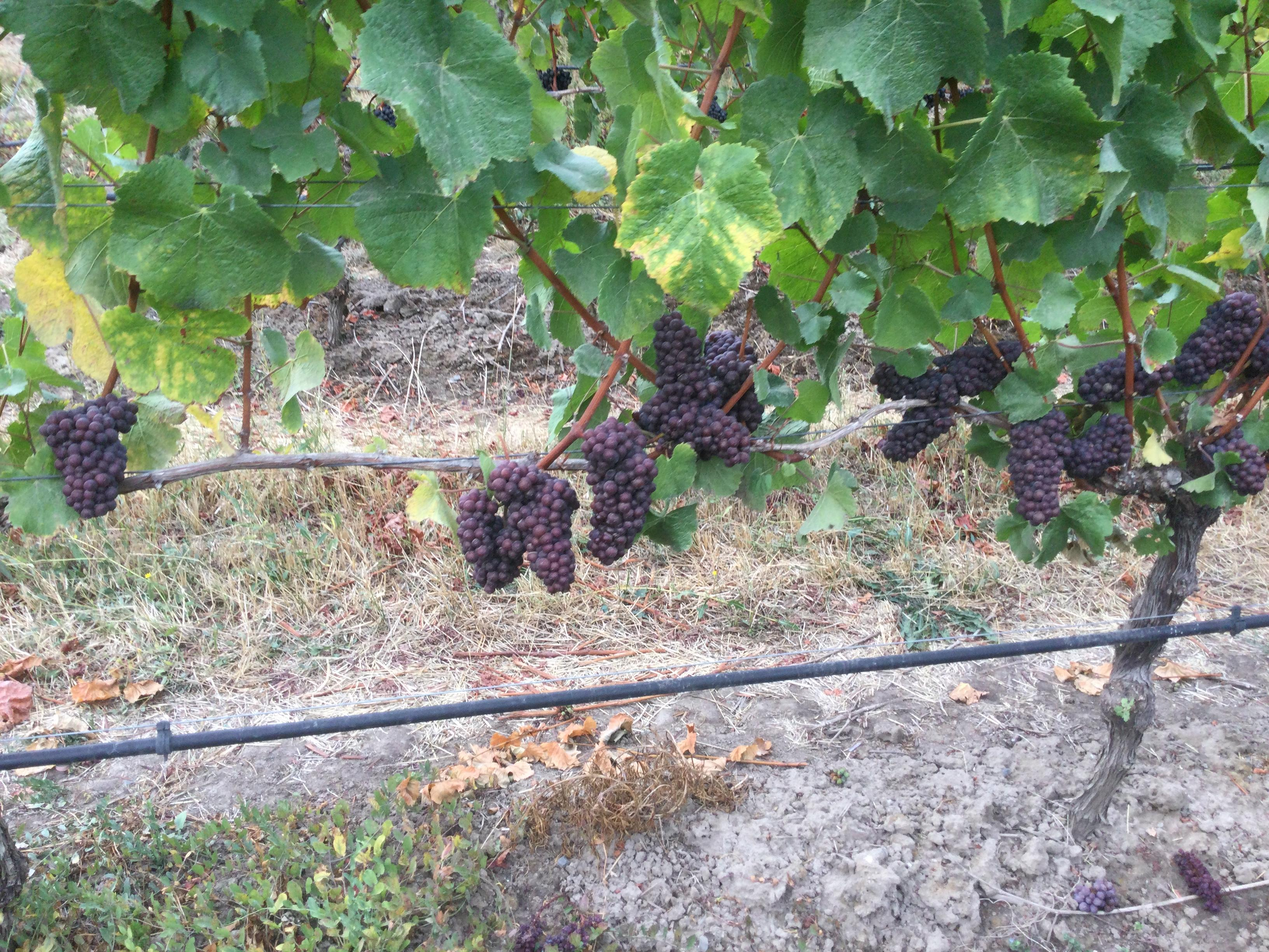leaf: (358, 0, 531, 192), (944, 53, 1114, 226), (616, 139, 781, 315), (108, 156, 290, 308), (804, 0, 986, 117), (740, 75, 861, 243), (354, 149, 493, 292), (0, 0, 168, 112), (100, 306, 249, 405), (14, 251, 112, 380), (0, 89, 66, 253), (857, 116, 951, 228), (1075, 0, 1175, 100), (1102, 83, 1187, 195), (182, 27, 267, 114), (251, 100, 337, 181), (65, 206, 128, 308), (551, 214, 622, 302), (1045, 198, 1126, 273), (596, 257, 664, 338), (250, 0, 313, 83), (325, 101, 397, 173), (759, 229, 827, 301), (200, 127, 273, 194), (121, 394, 185, 469), (797, 462, 858, 540), (262, 329, 325, 403), (0, 478, 77, 536), (873, 285, 941, 350), (285, 232, 345, 301), (532, 140, 610, 191), (755, 0, 806, 76), (406, 472, 458, 537), (1028, 273, 1081, 330), (993, 372, 1052, 422), (754, 284, 800, 345), (640, 503, 697, 552), (940, 273, 994, 322), (176, 0, 262, 30), (651, 444, 697, 500), (995, 504, 1038, 562), (823, 211, 877, 254), (829, 270, 877, 313), (965, 424, 1010, 469), (694, 457, 742, 497), (787, 379, 830, 422), (795, 301, 833, 347), (753, 368, 796, 407), (1142, 326, 1178, 368), (504, 184, 538, 201), (75, 187, 104, 205), (502, 163, 527, 169), (249, 189, 254, 190), (322, 30, 324, 32), (398, 119, 399, 123), (313, 90, 315, 91), (500, 189, 501, 190), (222, 133, 222, 138)
